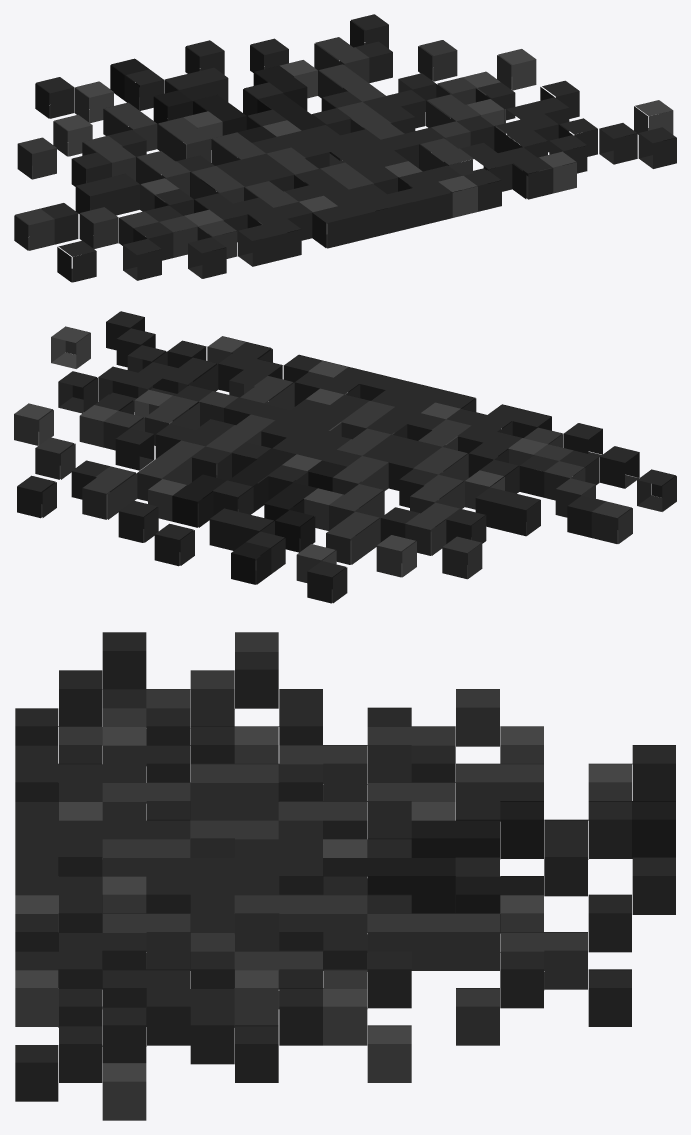
File: scorchmark_4.gltf
3 renders of one model, top to bottom at view 1: azimuth 30°, elevation 25°; view 2: azimuth 150°, elevation 25°; view 3: azimuth 270°, elevation 25°, orthographic. The views are drawn at different scales.
Visible parts, largest first — view 1: scorchmark_4; view 2: scorchmark_4; view 3: scorchmark_4.
Boxes of the visible parts, x1,y1,x2,y2 form: scorchmark_4: (14, 14, 676, 282); scorchmark_4: (14, 311, 676, 603); scorchmark_4: (15, 632, 675, 1120).
Size of the model in its own units: 2.29 by 0.093 by 1.43.
1 material, 1 textured.
